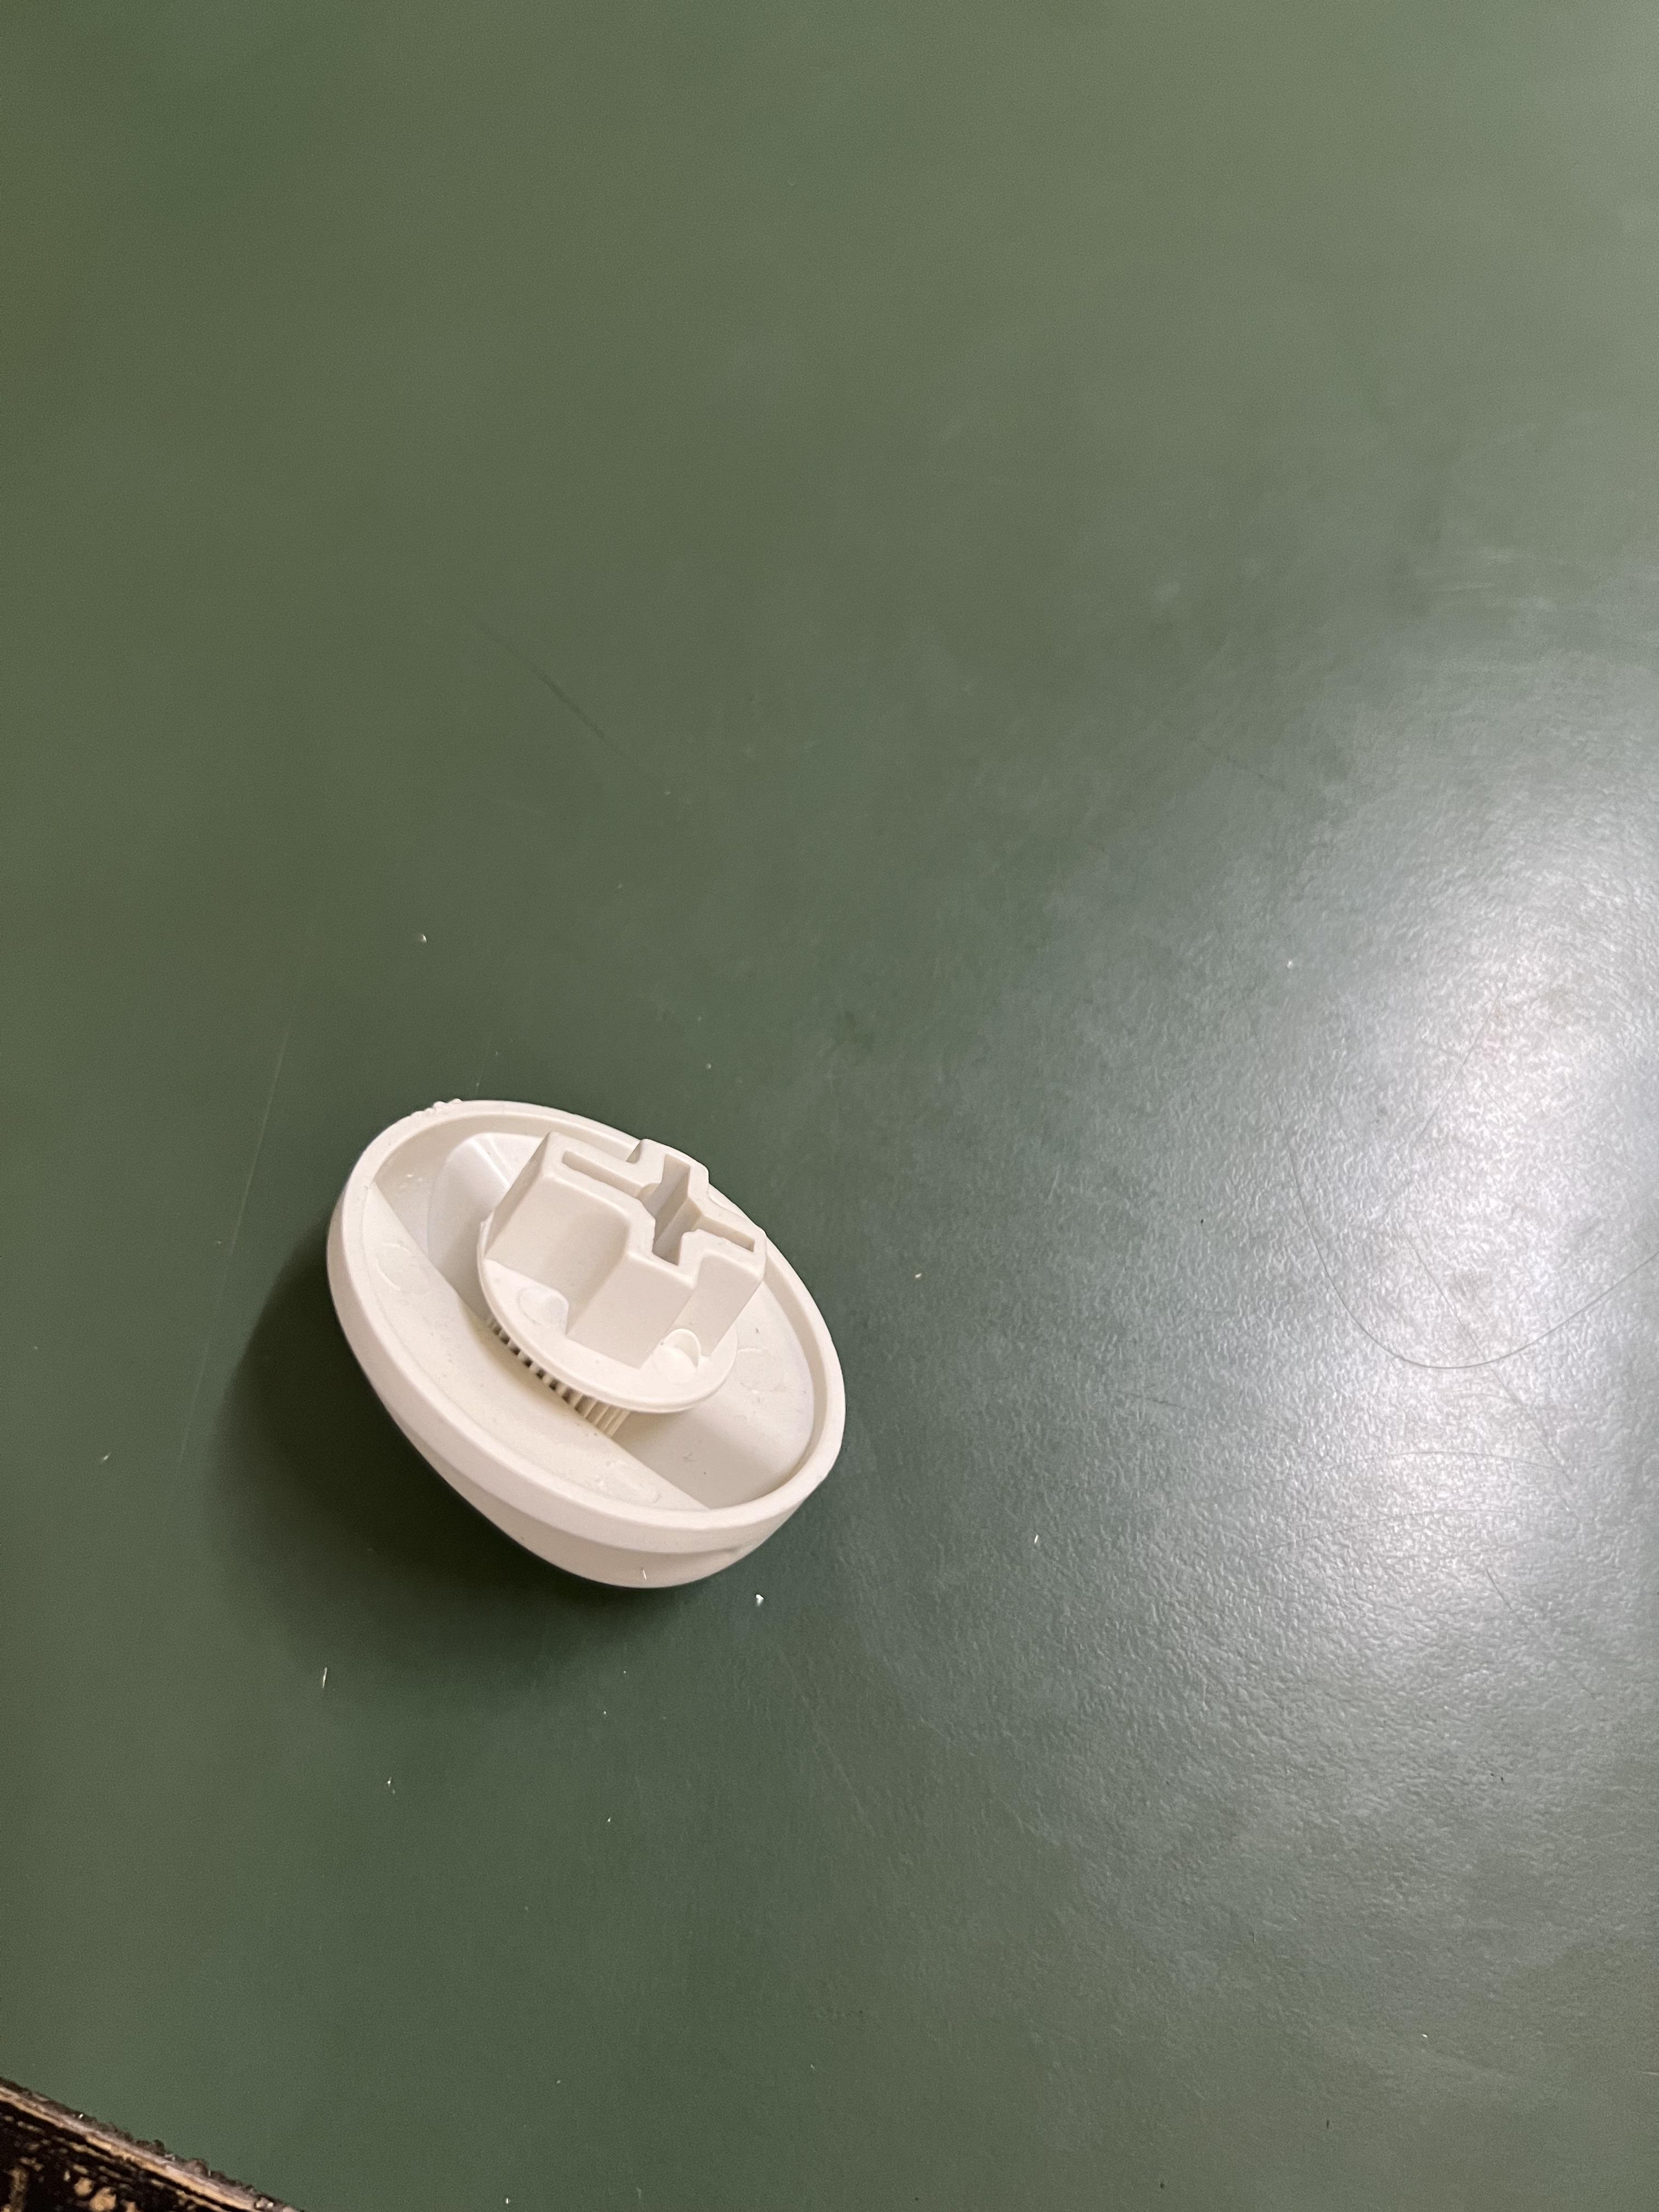regulator: (328, 1082, 864, 1590)
